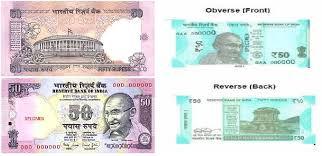fifty: (177, 25, 297, 59)
